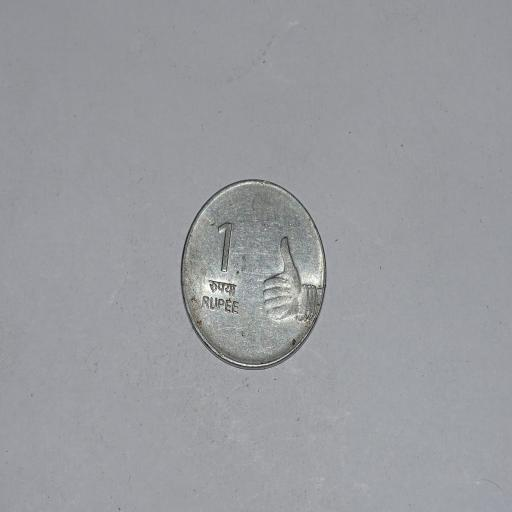rupee1: (176, 176, 330, 372)
